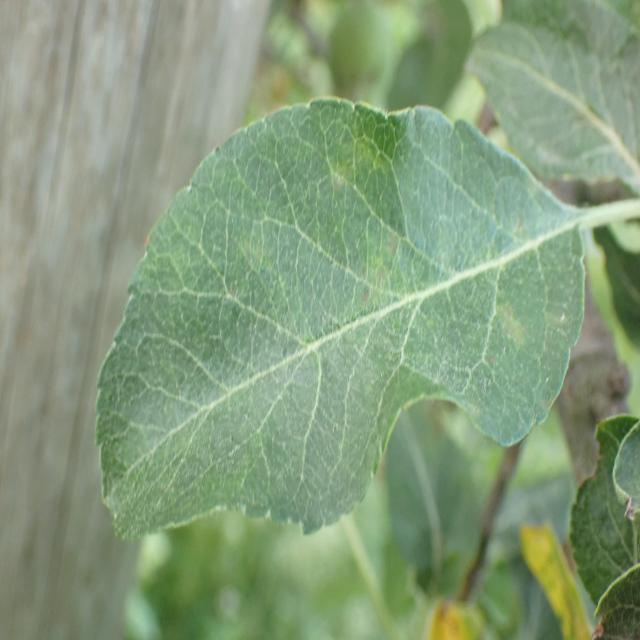scab: (246, 104, 588, 383)
